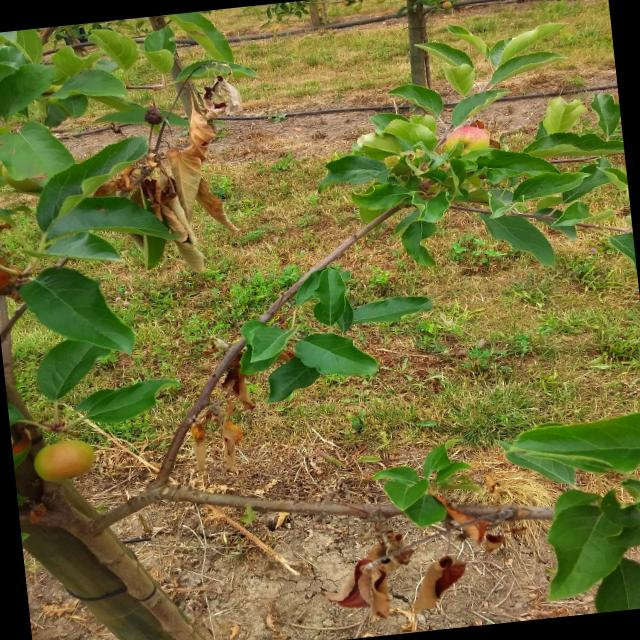-FireBlight-: (346, 510, 482, 622), (139, 118, 241, 260)
